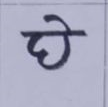i_matra: (48, 14, 75, 69)
